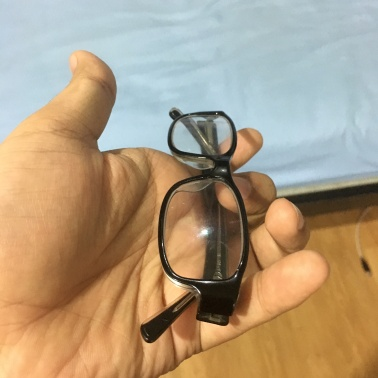glasses: (148, 102, 258, 334)
